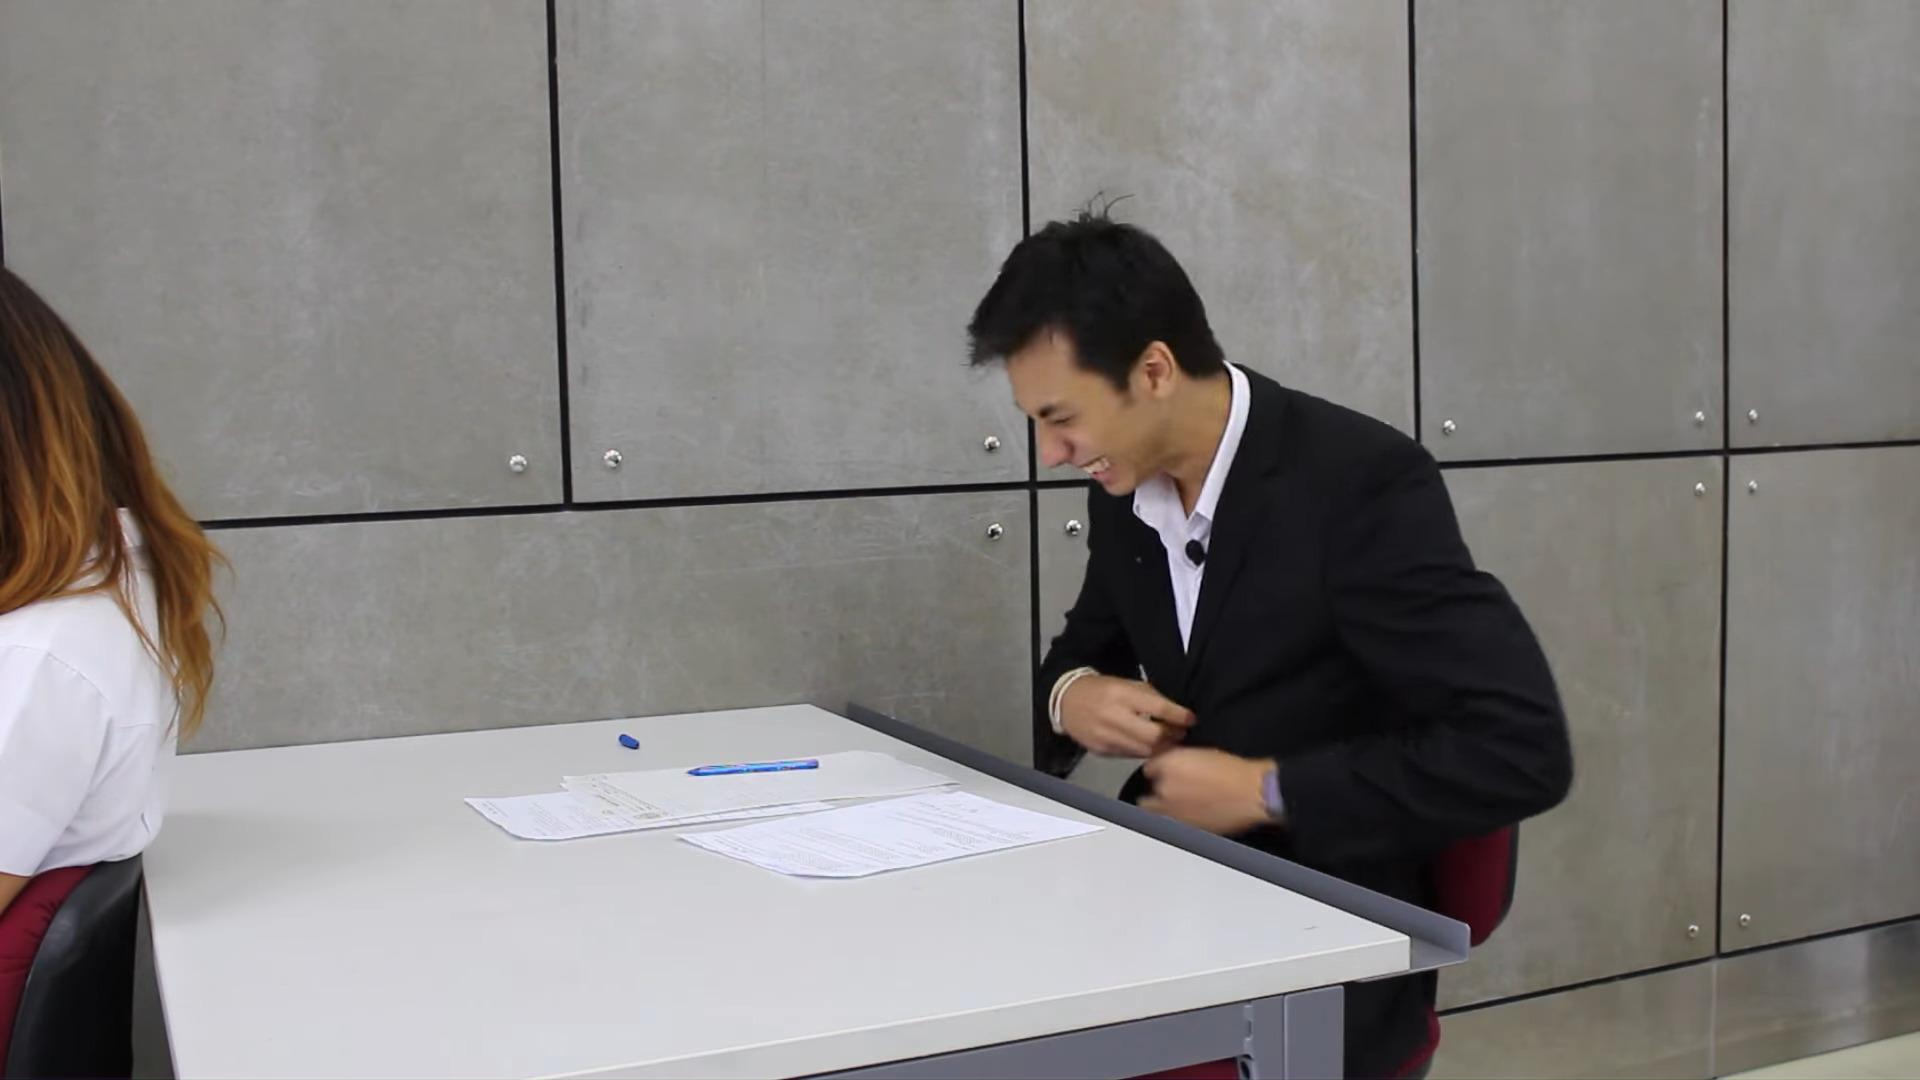good: (440, 181, 1588, 943)
